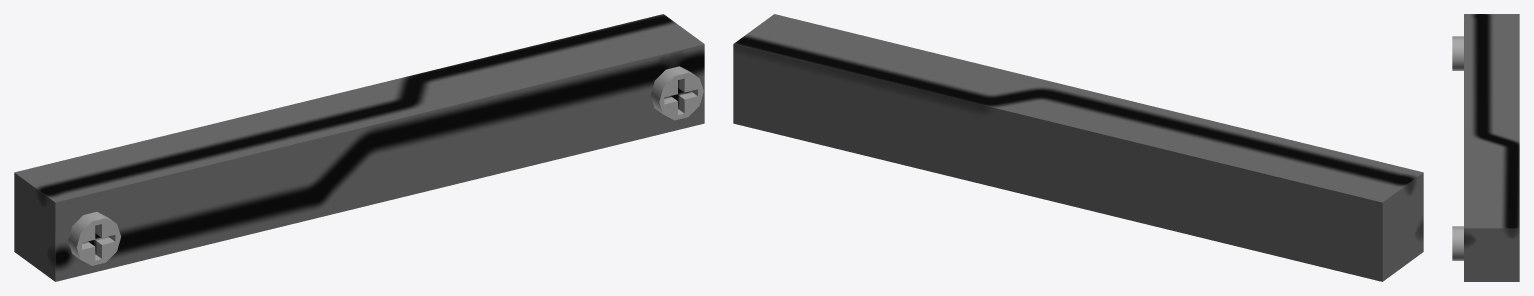
The model's file is Laser Rail.fbx.
3 views of the same model, side by side, from view 1: azimuth 30°, elevation 25°; view 2: azimuth 150°, elevation 25°; view 3: azimuth 270°, elevation 25° (orthographic). The views are drawn at different scales.
Parts seen in each view (by area): view 1: Box001, screw013, screw012; view 2: Box001; view 3: Box001, screw012, screw013.
Boxes of the visible parts, x1,y1,x2,y2 form: Box001: [14, 14, 704, 281]; screw013: [650, 66, 703, 120]; screw012: [68, 212, 121, 265]; Box001: [733, 14, 1423, 281]; Box001: [1464, 14, 1519, 281]; screw012: [1452, 36, 1463, 70]; screw013: [1452, 226, 1463, 260].
Size of the model in its own units: 41.99 by 4.9 by 5.6.
Materials: 1 (1 with a texture image).
